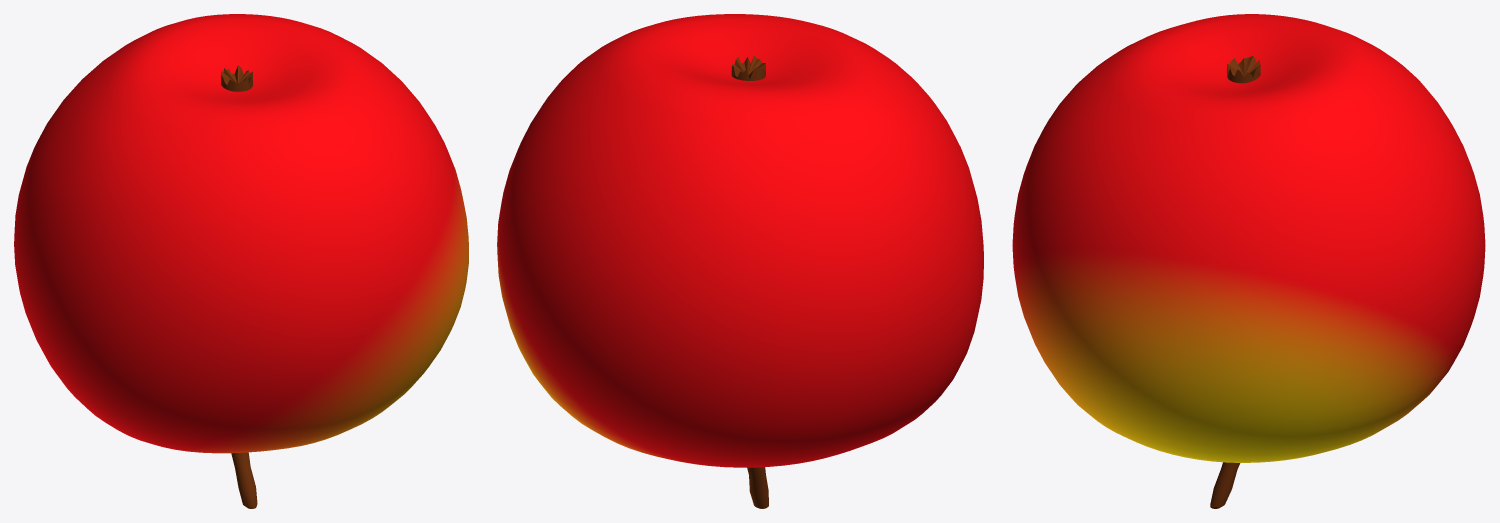
Rendered from madstore_apple_gold.fbx.
3 renders of one model, left to right at view 1: azimuth 30°, elevation 25°; view 2: azimuth 150°, elevation 25°; view 3: azimuth 270°, elevation 25°, orthographic. The views are drawn at different scales.
Parts seen in each view (by area): view 1: Sphere; view 2: Sphere; view 3: Sphere.
Part boxes in pixels (x1,y1,x2,y2): Sphere: (14,14,468,508); Sphere: (497,14,983,508); Sphere: (1012,14,1485,508).
Bounding box in the file's own units: 200 × 213 × 200.
